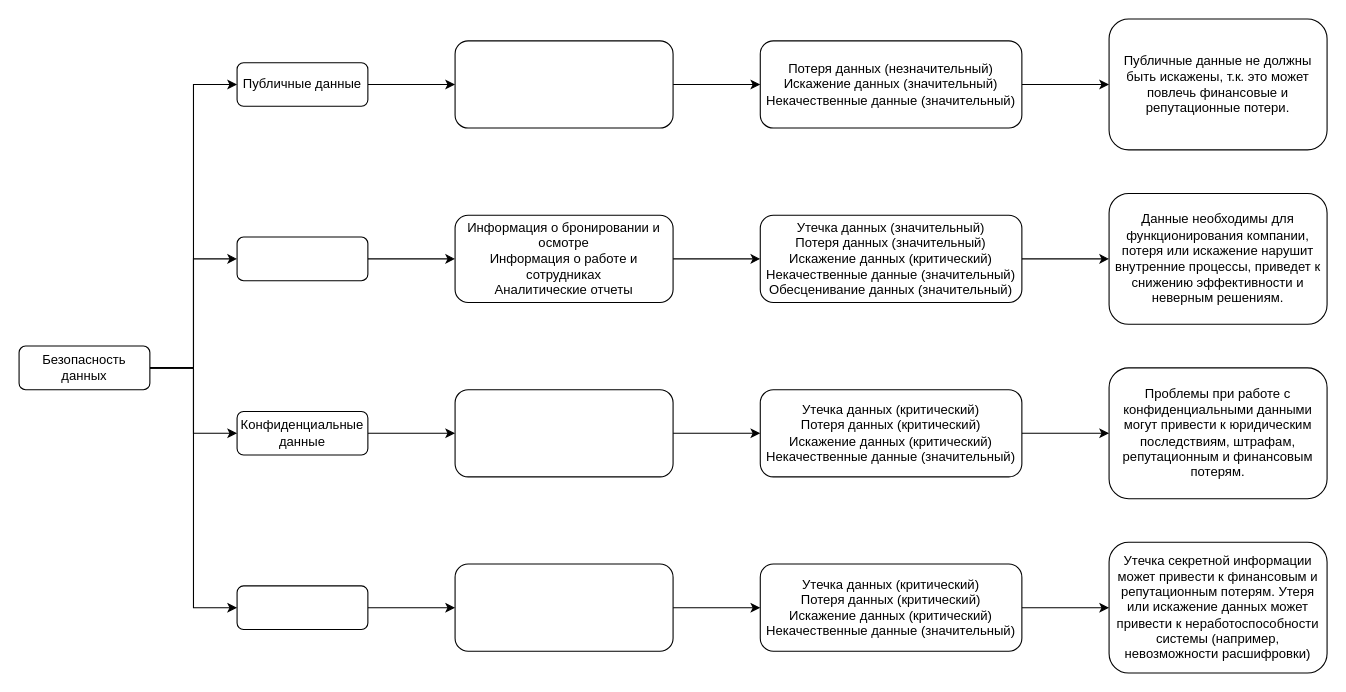
Image size: 1346x692. Some labels were removed from this diagram. The centre of each missing label's shape, as x and y in pixels:
"Внутренние данные" belongs at point 302,258.
"Информация об объектах недвижимости Сведения о компании Информация об услугах" belongs at point 563,84.
"Пароли и реквизиты доступа Сертификаты и криптографические ключи" belongs at point 563,607.
"Персональные данные пользователей Финансовая отчетность Информация о договорах" belongs at point 563,433.
"Секретные данные" belongs at point 302,607.
